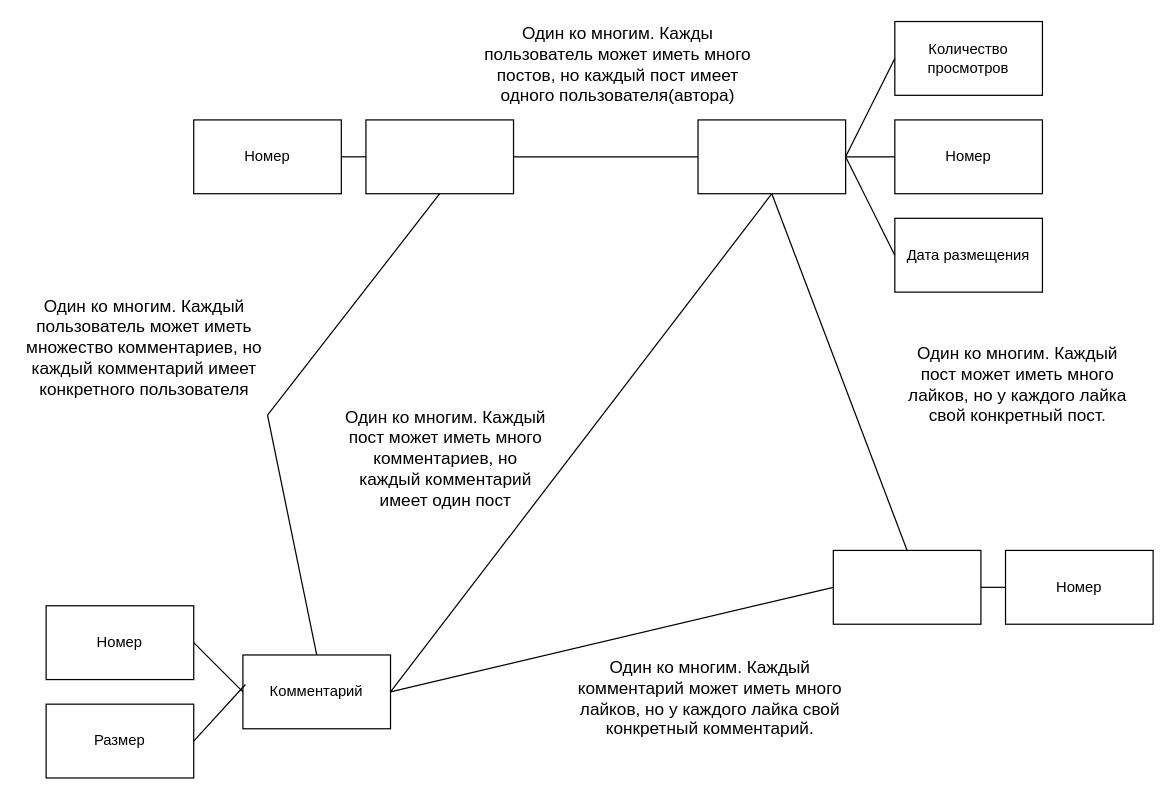
This 1175x800 diagram has some shape labels left out. Here are the shapes that lost their labels. From the top down, the centre of each, then its label:
(439,156): Пользователь
(771,156): Пост
(906,586): Лайк
